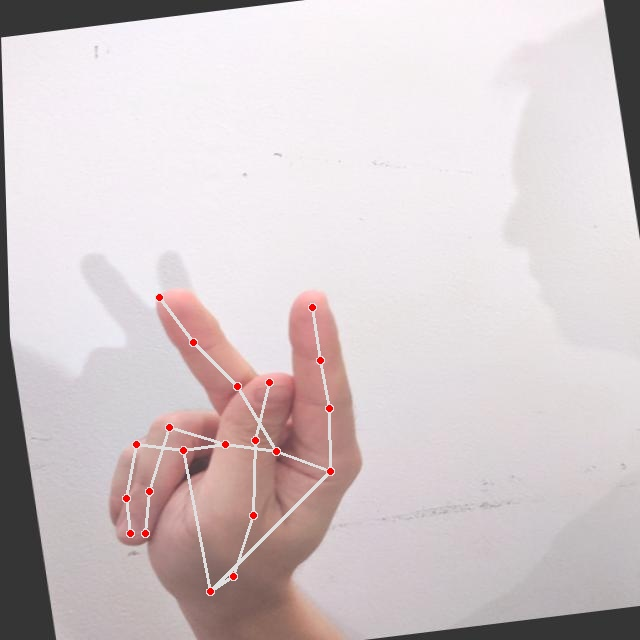K: (66, 258, 394, 635)
